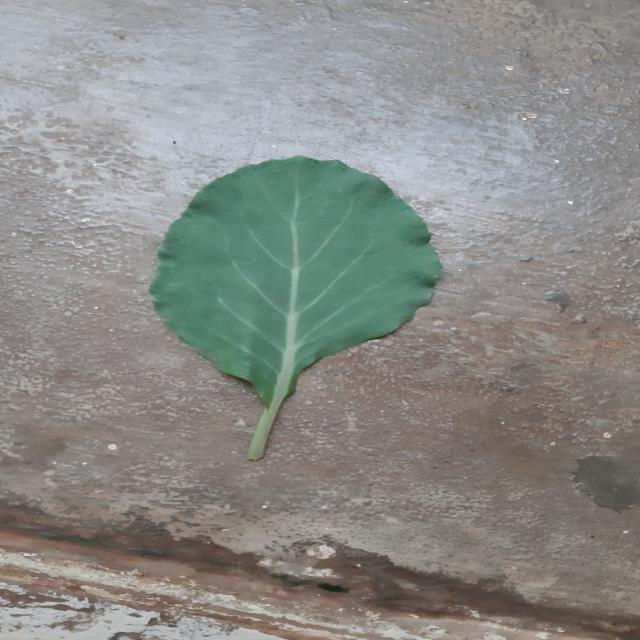Kohlrabi: (151, 156, 442, 460)
